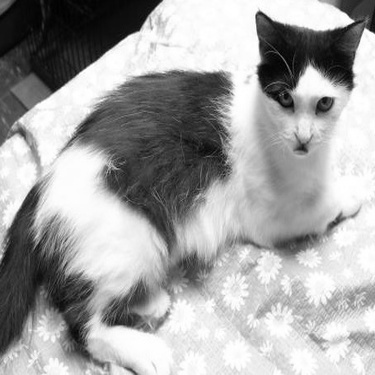cat: (22, 13, 365, 359)
